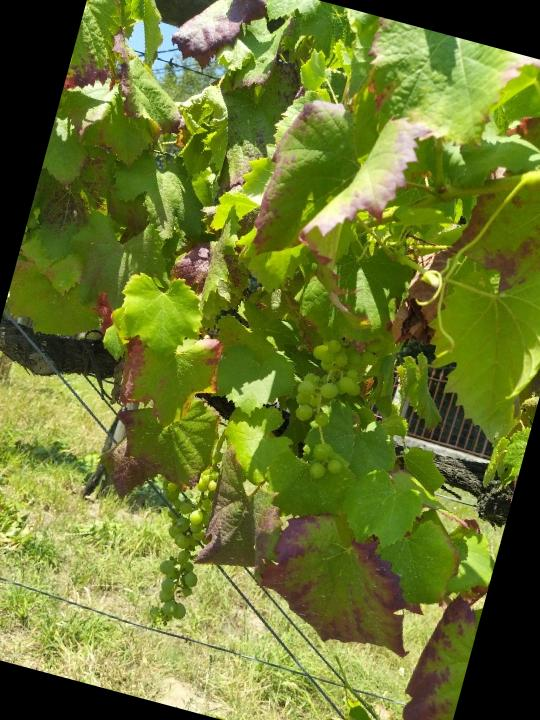grape: (120, 455, 237, 638), (269, 332, 377, 489)
